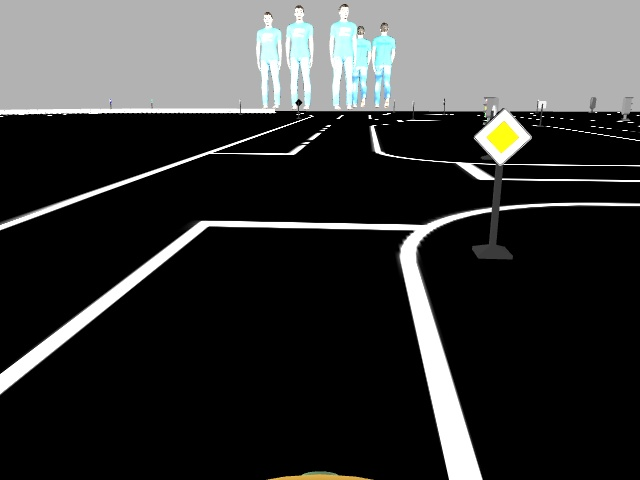Priority: (473, 107, 534, 167)
